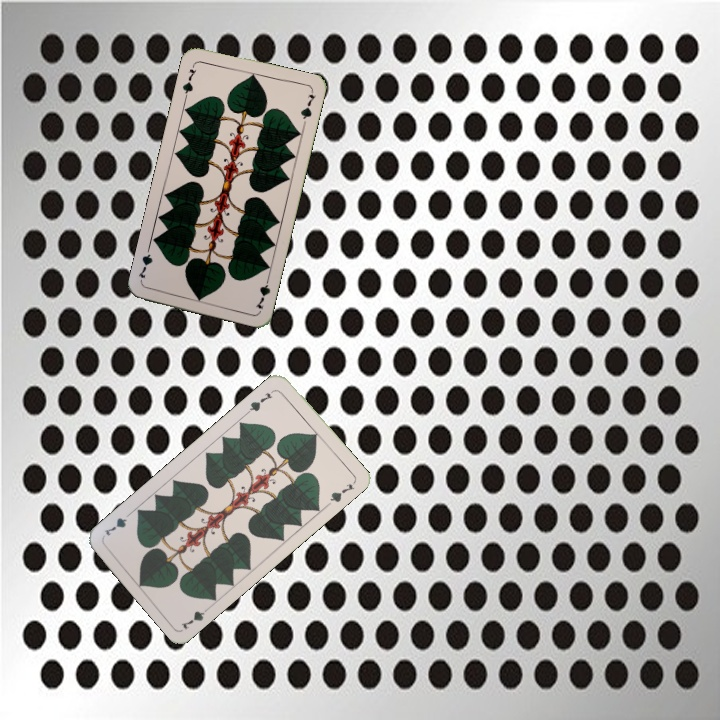G7: (177, 601, 214, 632), (243, 386, 277, 416), (251, 272, 273, 312), (178, 60, 199, 100)
